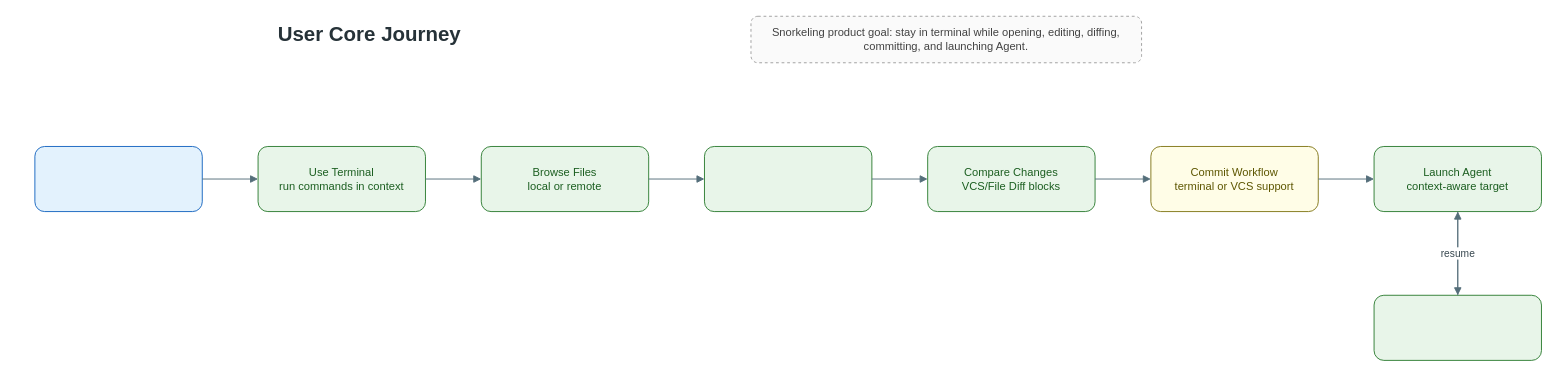
The diagram is 1558 pixels wide and 377 high, and some of its shapes have lost their labels. Here are the shapes that lost their labels. From the top down, the centre of each, then its label:
At [118,179]: "Open Workspace restore window/tab/block layout".
At [788,179]: "Edit / Preview Monaco + preview".
At [1457,327]: "Resume Sessions Codex/Claude history".
